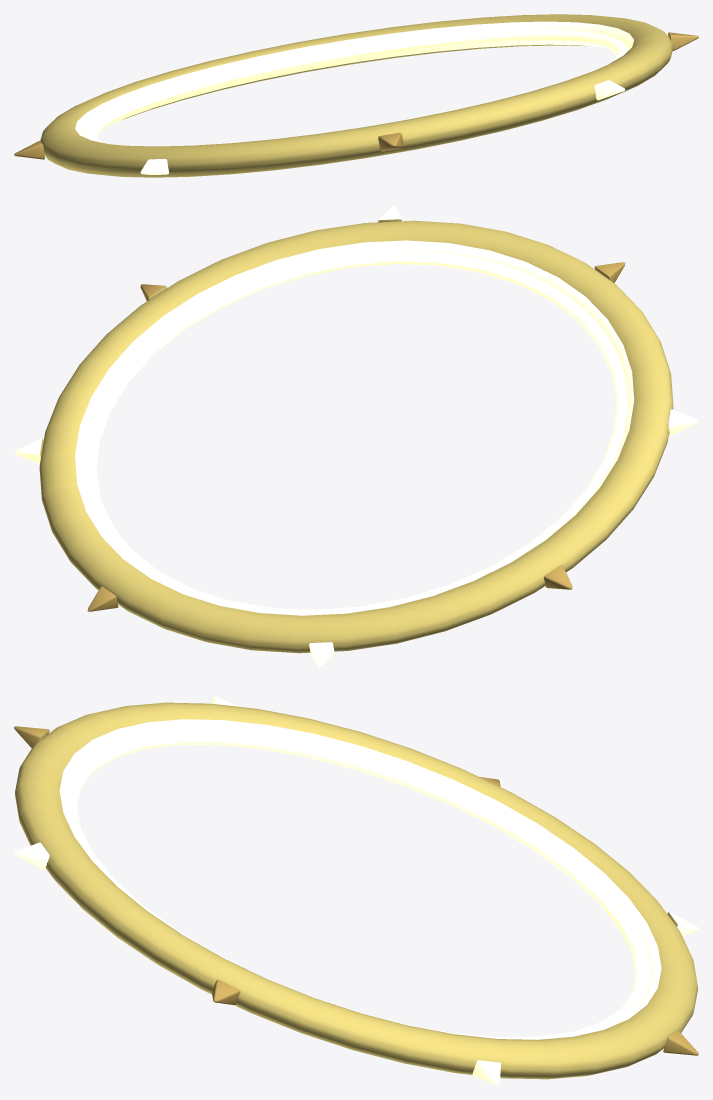
The model's file is halo.glb.
3 renders of one model, top to bottom at view 1: azimuth 30°, elevation 25°; view 2: azimuth 150°, elevation 25°; view 3: azimuth 270°, elevation 25°, orthographic. The views are drawn at different scales.
Parts seen in each view (by area): view 1: HAT_Halo; view 2: HAT_Halo; view 3: HAT_Halo.
Boxes of the visible parts, x1=… form: HAT_Halo: x1=14, y1=14, x2=698, y2=177; HAT_Halo: x1=14, y1=206, x2=698, y2=667; HAT_Halo: x1=14, y1=696, x2=698, y2=1085.
Bounding box in the file's own units: 0.6059 × 0.2028 × 0.5762.
